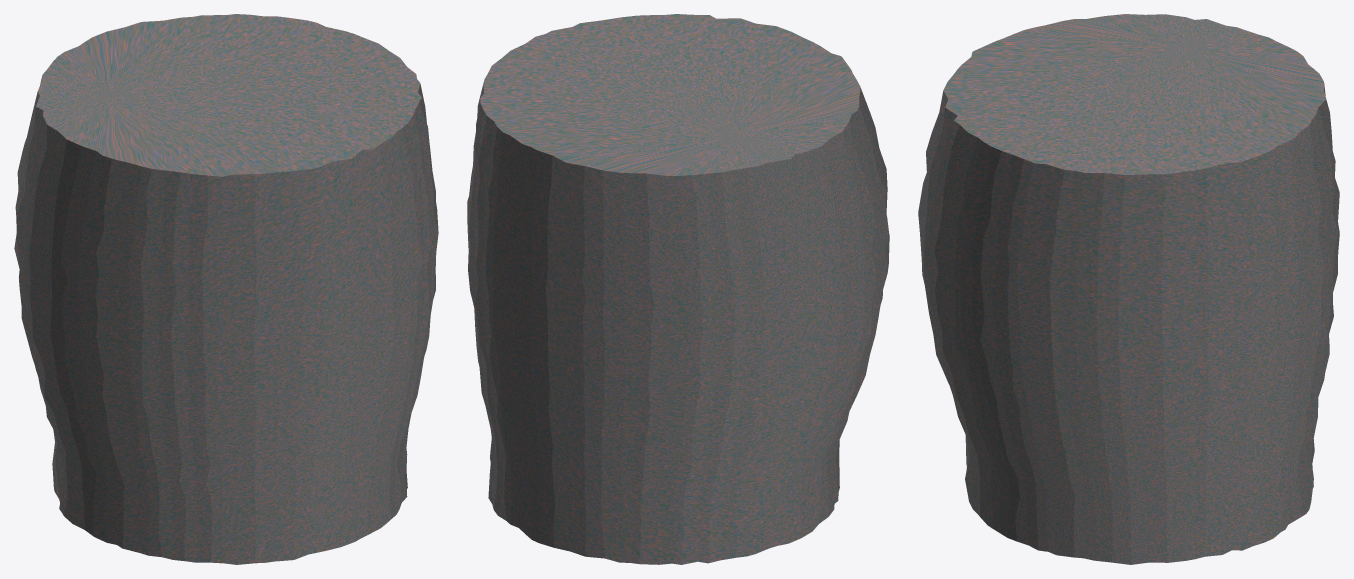
File: barrel_1.dae
The picture shows the model from 3 angles, left to right: view 1: azimuth 30°, elevation 25°; view 2: azimuth 150°, elevation 25°; view 3: azimuth 270°, elevation 25°; orthographic projection.
Parts seen in each view (by area): view 1: Cylinder; view 2: Cylinder; view 3: Cylinder.
Boxes of the visible parts, x1,y1,x2,y2 form: Cylinder: (14, 14, 438, 564); Cylinder: (467, 14, 889, 564); Cylinder: (918, 14, 1339, 564).
Size of the model in its own units: 0.9694 by 0.9715 by 1.
1 material, 1 textured.
